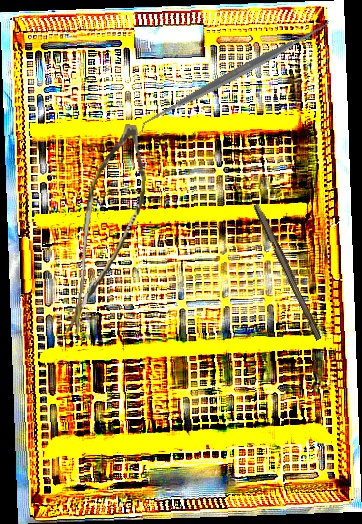Micro Scissor: (65, 120, 151, 342)
Scalpel Handle: (250, 202, 327, 341)
Spatula Surgical: (133, 13, 336, 137)
